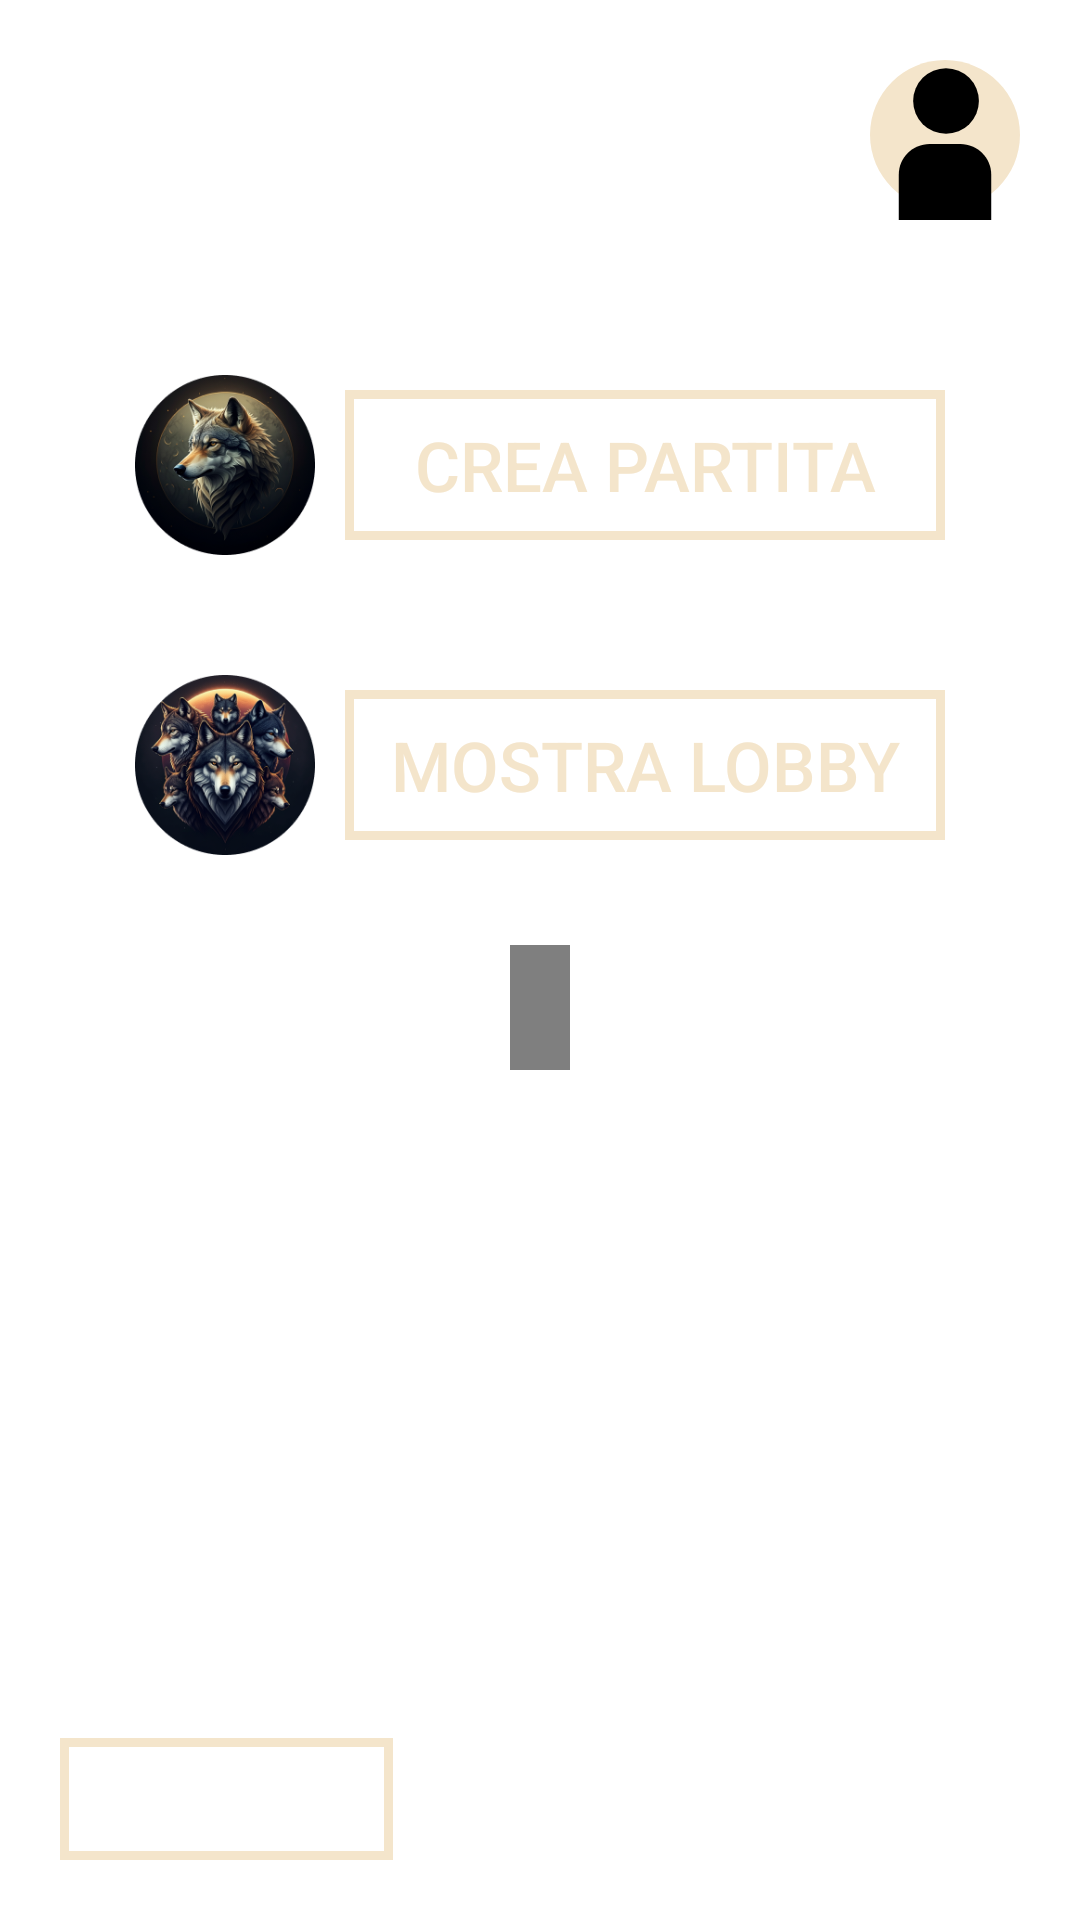

Named icons in this screenshot (1080px×1920px) and their centers, (x,y):
lupo cerca: (225,765)
lupo ospita: (225,465)
